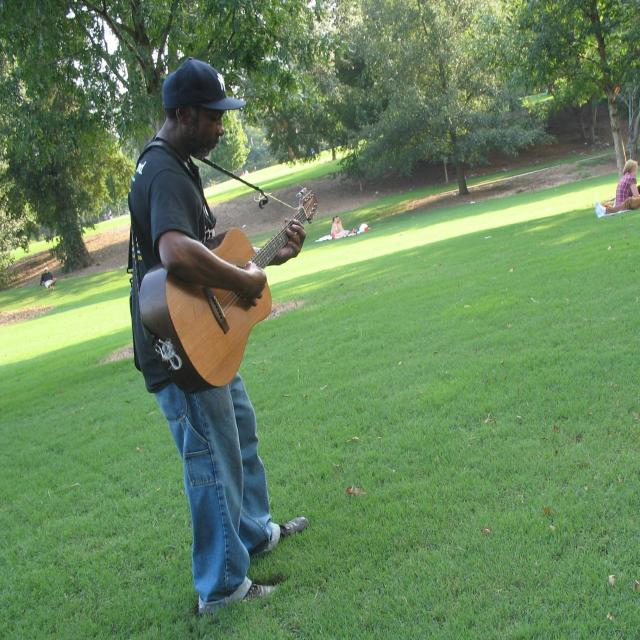guitar: (138, 186, 318, 387)
